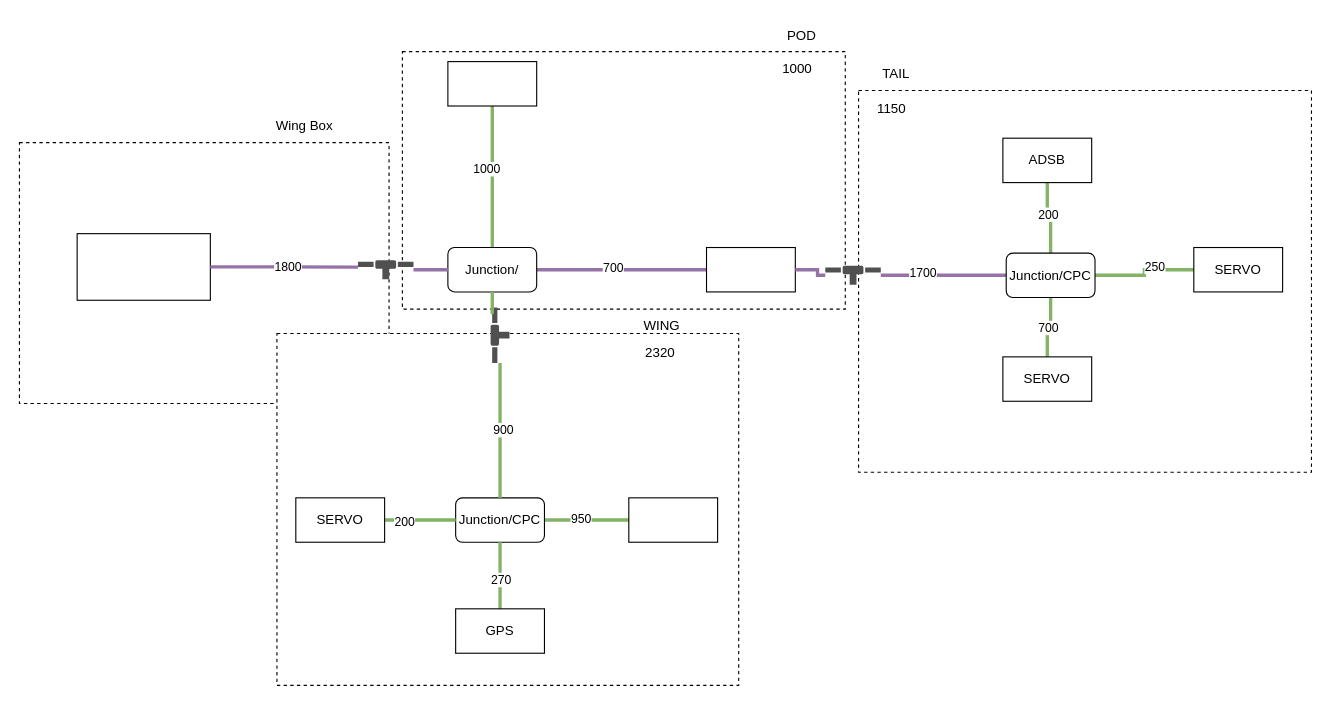
The diagram is 1331 pixels wide and 705 high, and some of its shapes have lost their labels. The centre of each missing label's shape, as x and y in pixels:
"AIRSPEED" belongs at [673,519].
"CPN 11" belongs at [492,83].
"CPN 12" belongs at [750,269].
"Cube/Master" belongs at [143,266].
